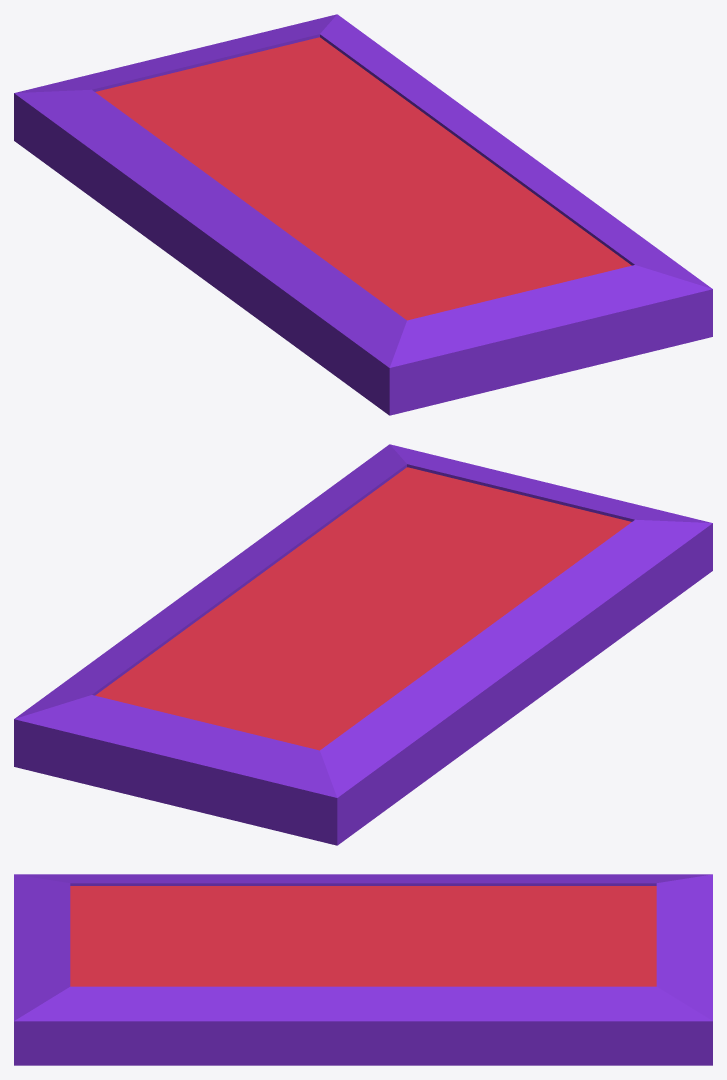
File: FloorHalfUVID 1.fbx
3 views of the same model, one above another, from view 1: azimuth 30°, elevation 25°; view 2: azimuth 150°, elevation 25°; view 3: azimuth 270°, elevation 25° (orthographic). The views are drawn at different scales.
Visible parts, largest first — view 1: FloorHalf, TileHalf; view 2: FloorHalf, TileHalf; view 3: FloorHalf, TileHalf.
Boxes of the visible parts, x1,y1,x2,y2 form: FloorHalf: (14, 14, 712, 415); TileHalf: (95, 37, 631, 320); FloorHalf: (14, 444, 712, 845); TileHalf: (95, 467, 631, 750); FloorHalf: (14, 874, 712, 1065); TileHalf: (70, 886, 656, 986).
Bounding box in the file's own units: 487 × 88.54 × 980.
